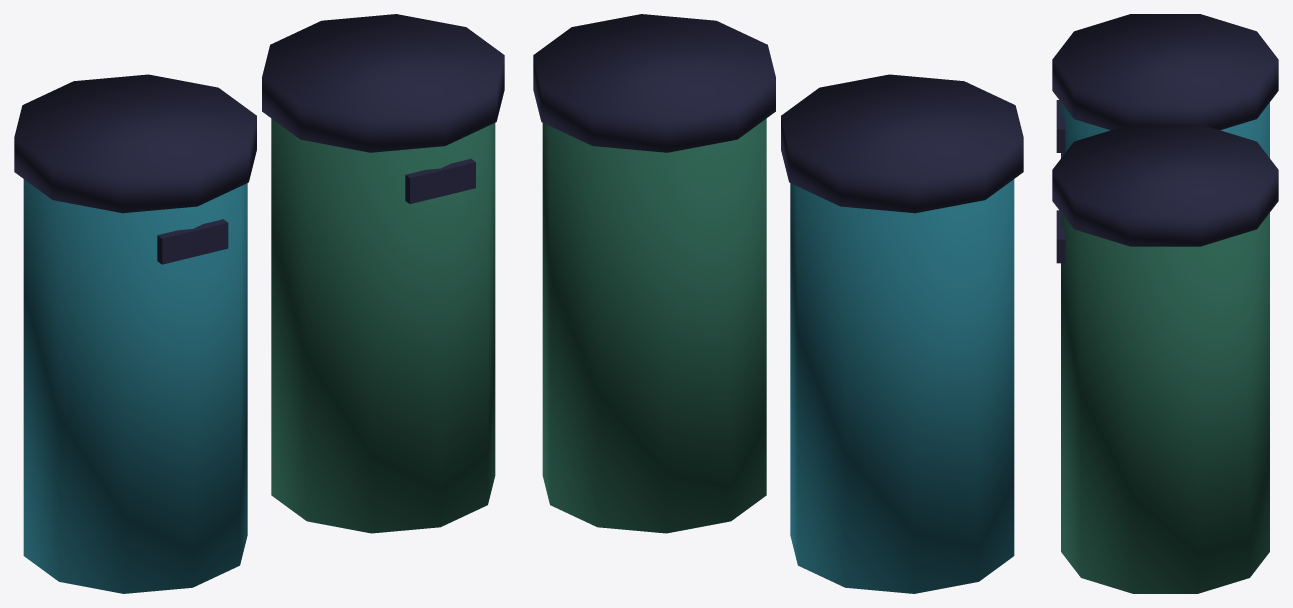
The model's file is bins.glb.
3 views of the same model, side by side, from view 1: azimuth 30°, elevation 25°; view 2: azimuth 150°, elevation 25°; view 3: azimuth 270°, elevation 25° (orthographic). The views are drawn at different scales.
Visible parts, largest first — view 1: bins; view 2: bins; view 3: bins.
Part boxes in pixels (x1,y1,x2,y2): bins: [14, 14, 504, 593]; bins: [533, 14, 1023, 593]; bins: [1052, 14, 1278, 593].
Bounding box in the file's own units: 1.09 × 0.97 × 0.5199.
